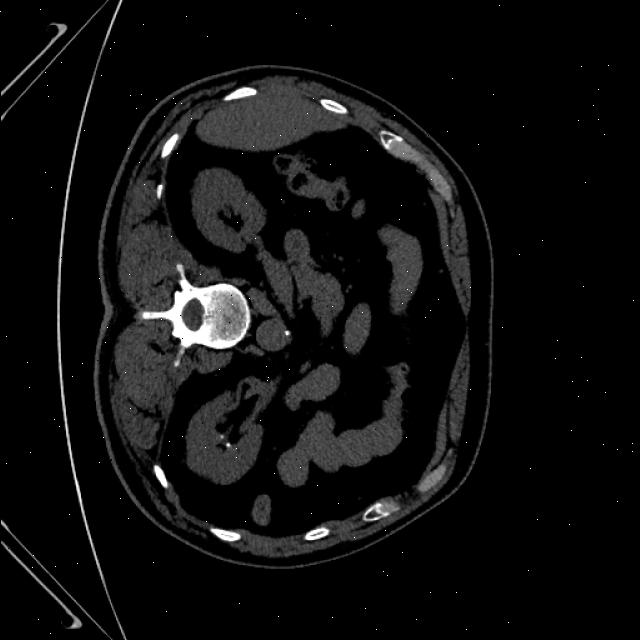kidneystone: (283, 329, 290, 337), (224, 442, 231, 448)
